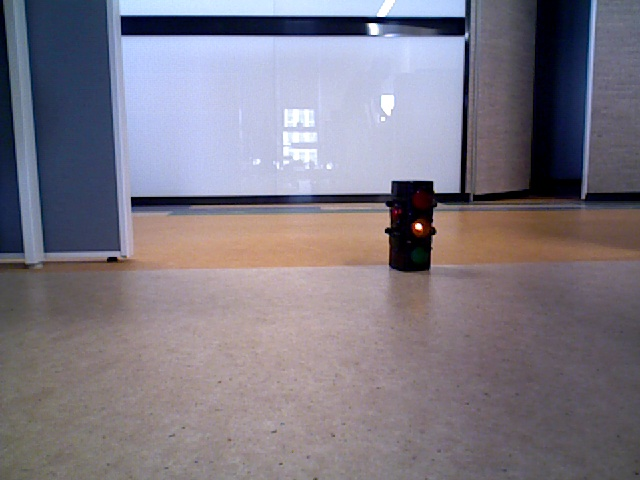yellow: (390, 182, 427, 270)
